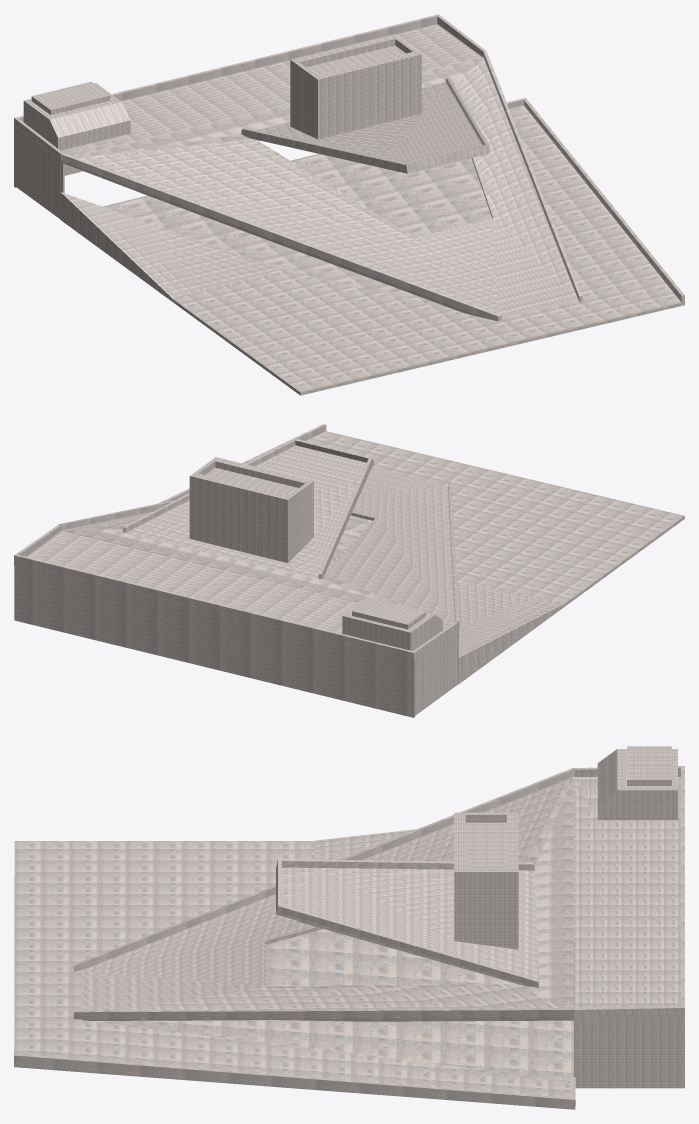
The model's file is opra.fbx.
3 renders of one model, top to bottom at view 1: azimuth 30°, elevation 25°; view 2: azimuth 150°, elevation 25°; view 3: azimuth 270°, elevation 25°, orthographic. The views are drawn at different scales.
Parts seen in each view (by area): view 1: pasted__pasted__pCube37; view 2: pasted__pasted__pCube37; view 3: pasted__pasted__pCube37.
Part boxes in pixels (bbox=[...]): pasted__pasted__pCube37: bbox=[14, 14, 684, 395]; pasted__pasted__pCube37: bbox=[14, 424, 684, 717]; pasted__pasted__pCube37: bbox=[14, 746, 684, 1109].
Bounding box in the file's own units: 157 × 49.05 × 167.
1 material, 1 textured.
